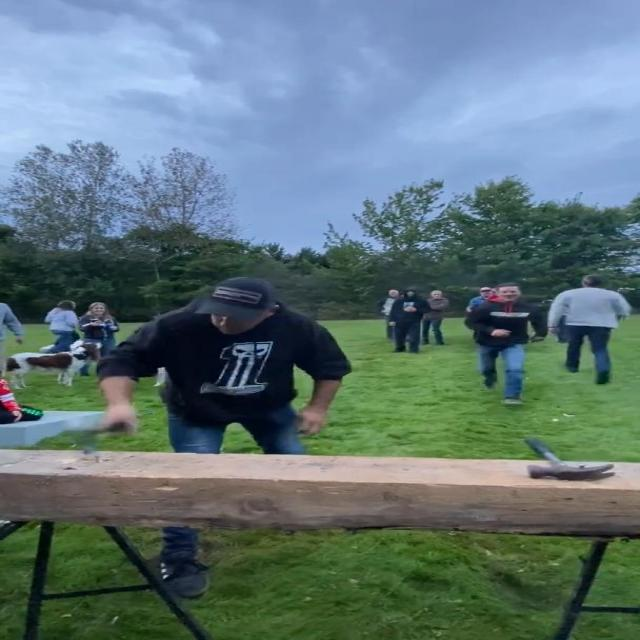hammer: (523, 438, 616, 482)
